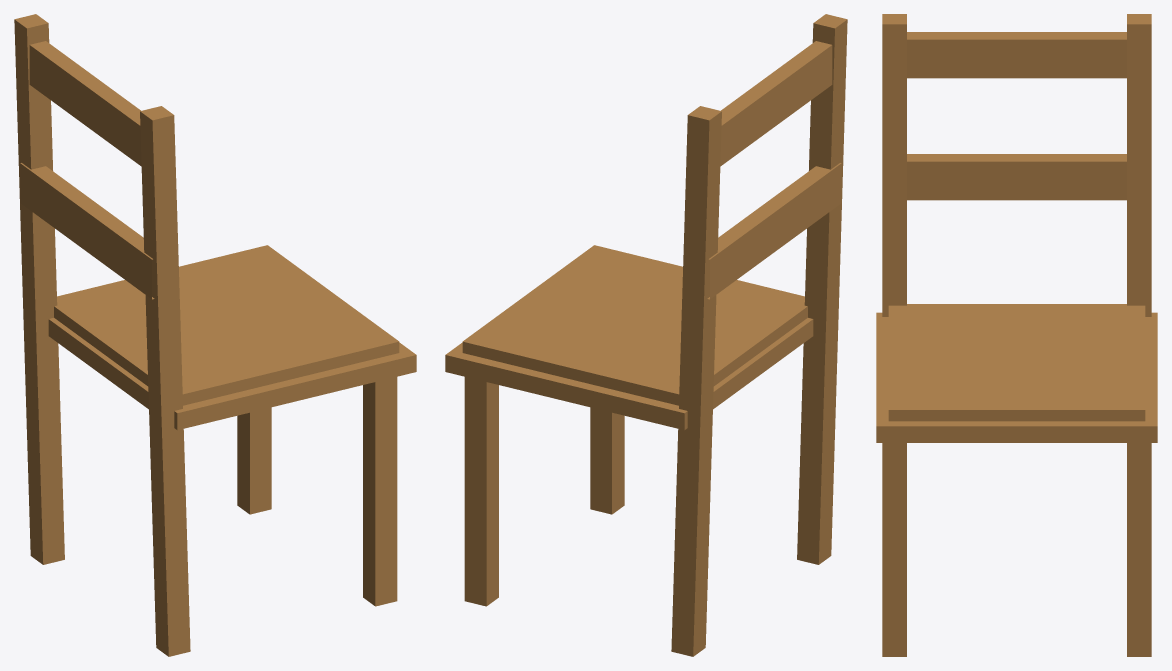
File: parametric-chair-crew.glb
3 renders of one model, left to right at view 1: azimuth 30°, elevation 25°; view 2: azimuth 150°, elevation 25°; view 3: azimuth 270°, elevation 25°, orthographic. The views are drawn at different scales.
Parts seen in each view (by area): view 1: parametric-chair-crew; view 2: parametric-chair-crew; view 3: parametric-chair-crew.
Part boxes in pixels (<box>): parametric-chair-crew: <box>14,14,416,656</box>; parametric-chair-crew: <box>445,14,847,656</box>; parametric-chair-crew: <box>876,14,1157,656</box>.
Bounding box in the file's own units: 0.48 × 0.95 × 0.46.
